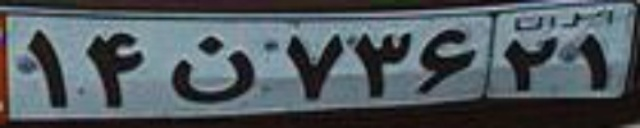1: (25, 30, 69, 108), (578, 34, 611, 92)
2: (502, 35, 558, 94)
3: (350, 29, 414, 98)
4: (85, 32, 147, 109)
6: (420, 28, 476, 95)
7: (283, 30, 343, 100)
non: (171, 33, 254, 101)
